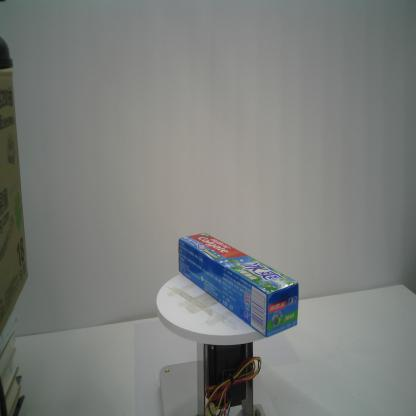Personal Hygiene: (178, 232, 300, 339)
